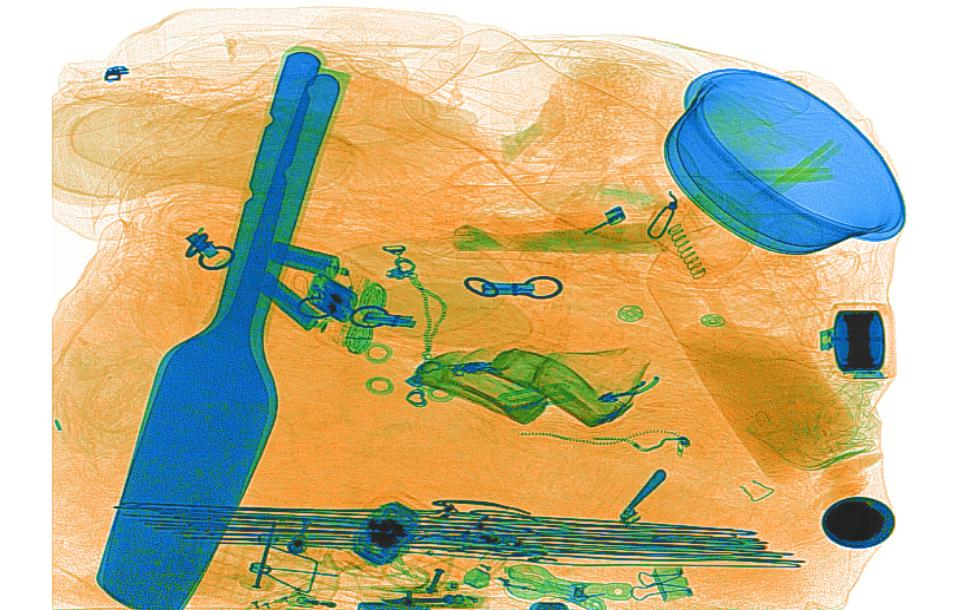battery: (250, 267, 323, 333), (263, 238, 340, 281)
plasticBottleWithaNozzle: (618, 140, 857, 477)
